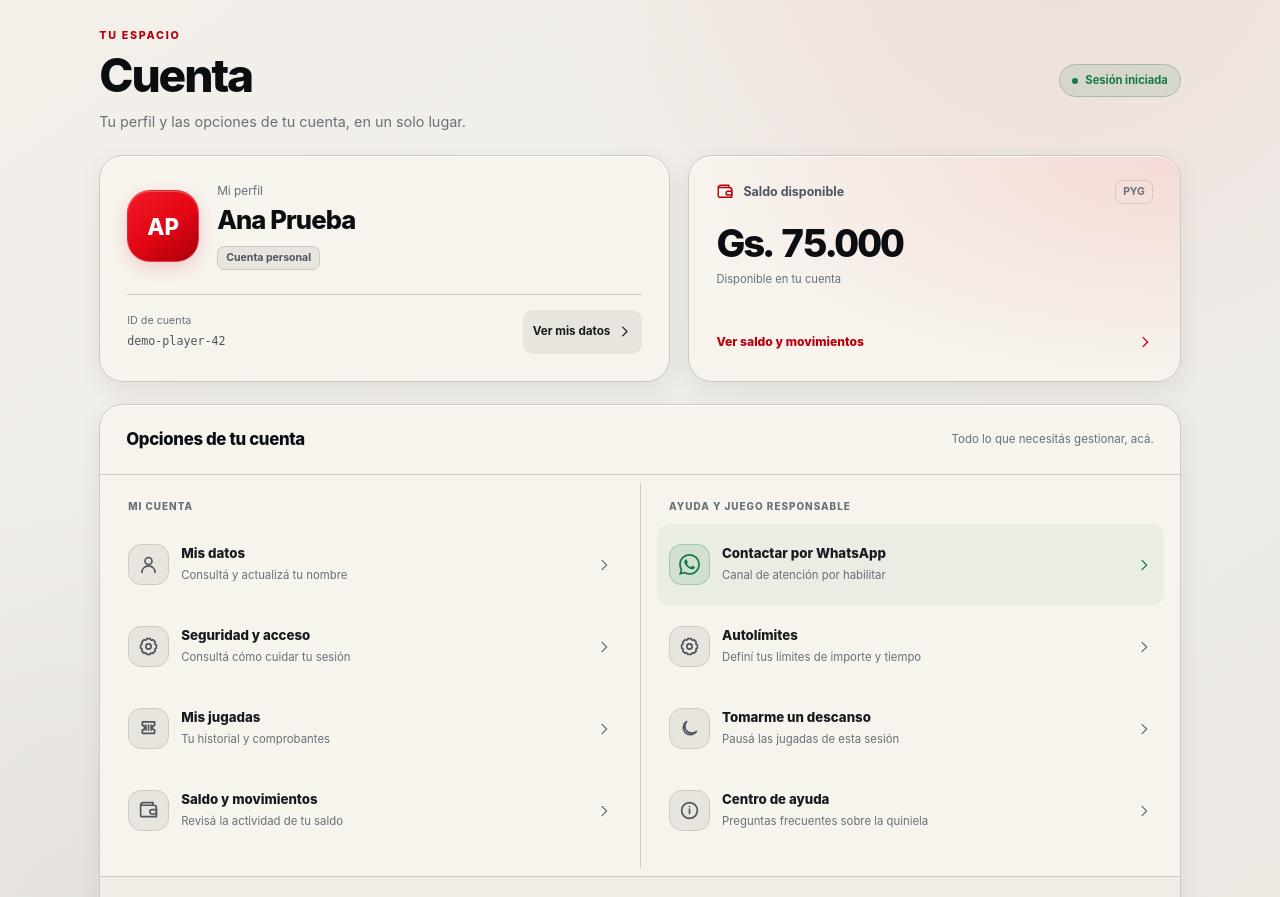
Test case: Account dashboard › returns from the Seguridad y acceso panel to Cuenta and restores focus
Click the button "Seguridad y acceso". click: (149, 647)
box: [116,606,624,688]
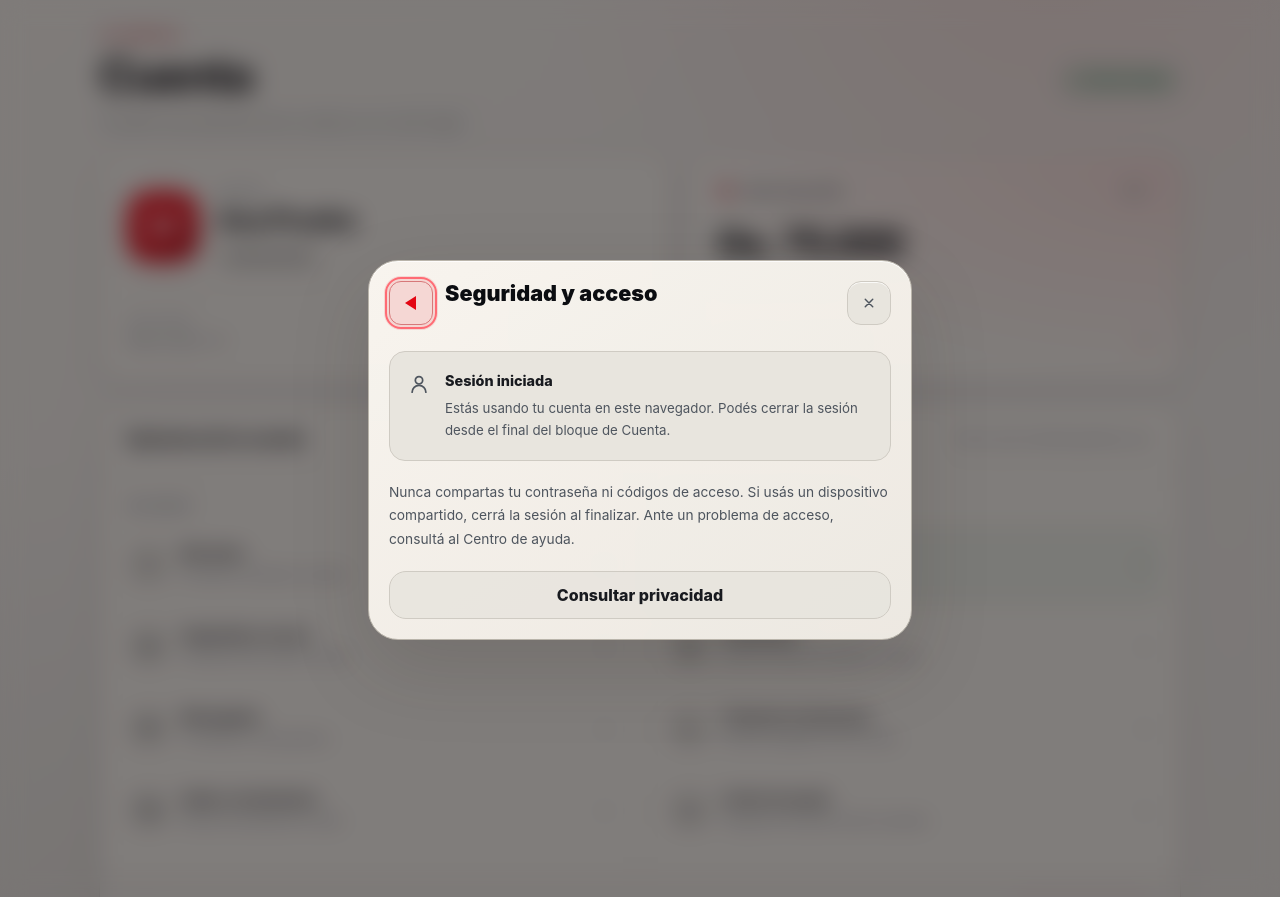
Click the button named "Volver a Cuenta". click: (411, 303)
box: [389,281,433,325]
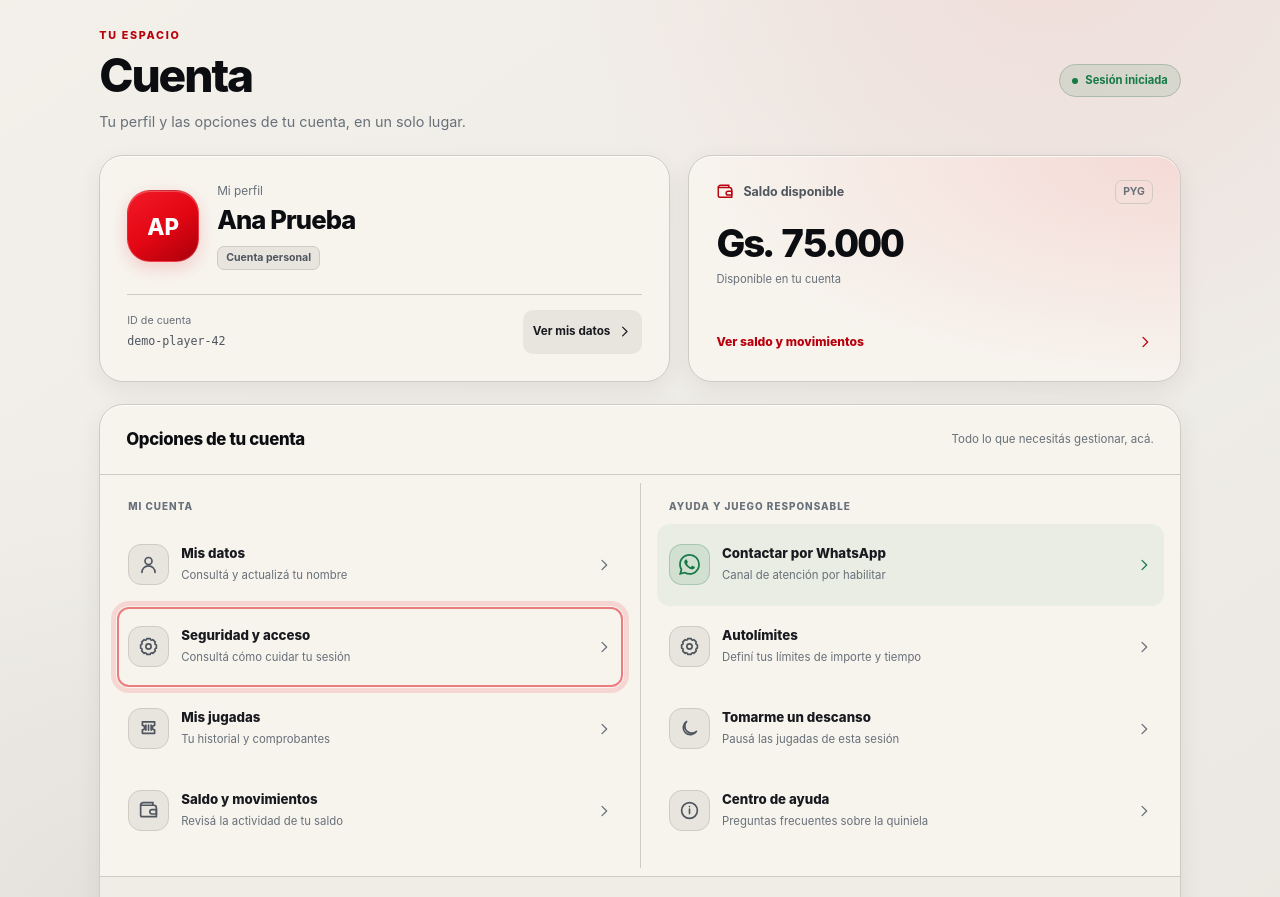
Result: the dialog is gone
